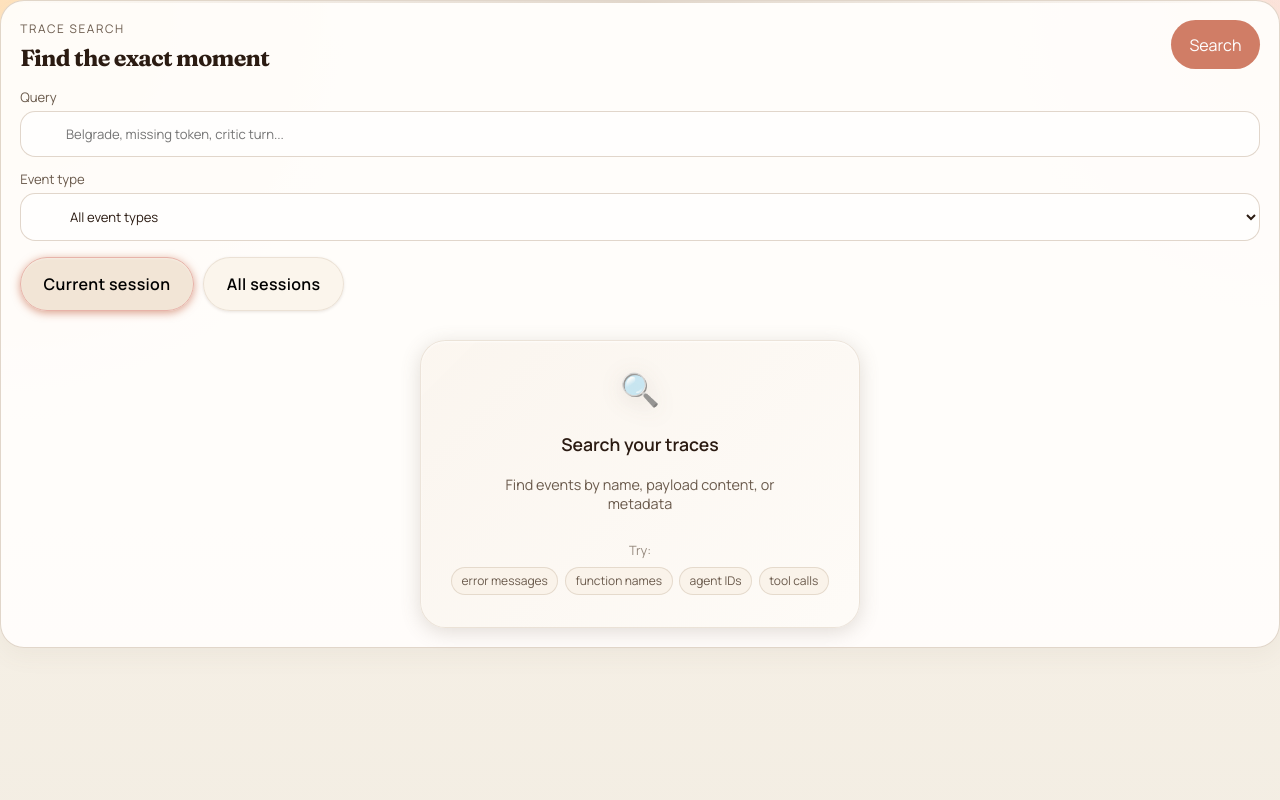
Test case: SearchPanel › shows "no results" message when search returns empty
The image size is (1280, 800).
Type in search input
Type "nonexistent" into the field with placeholder "Belgrade, missing token, critic turn..." at (640, 134), box [20,111,1260,157]
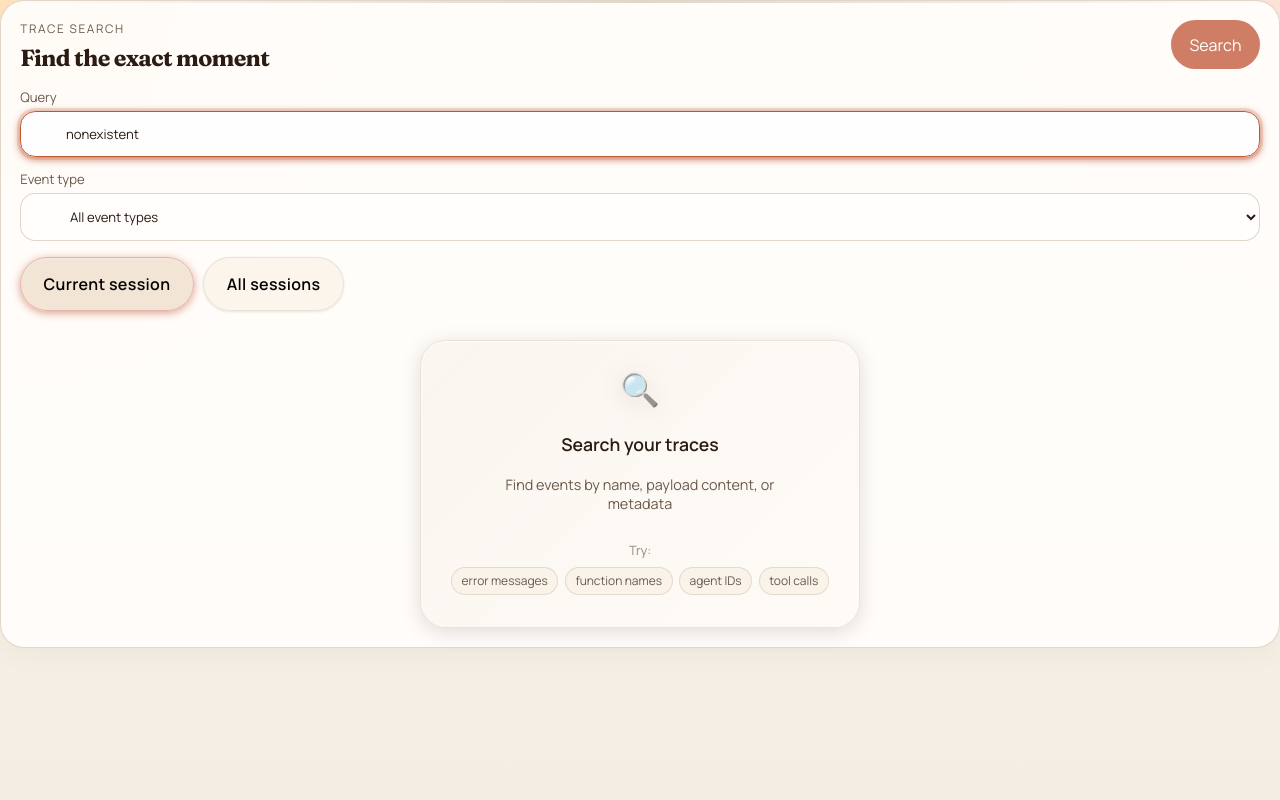
Click search button
Click the button "Search" at (1215, 45), box [1171,20,1260,69]
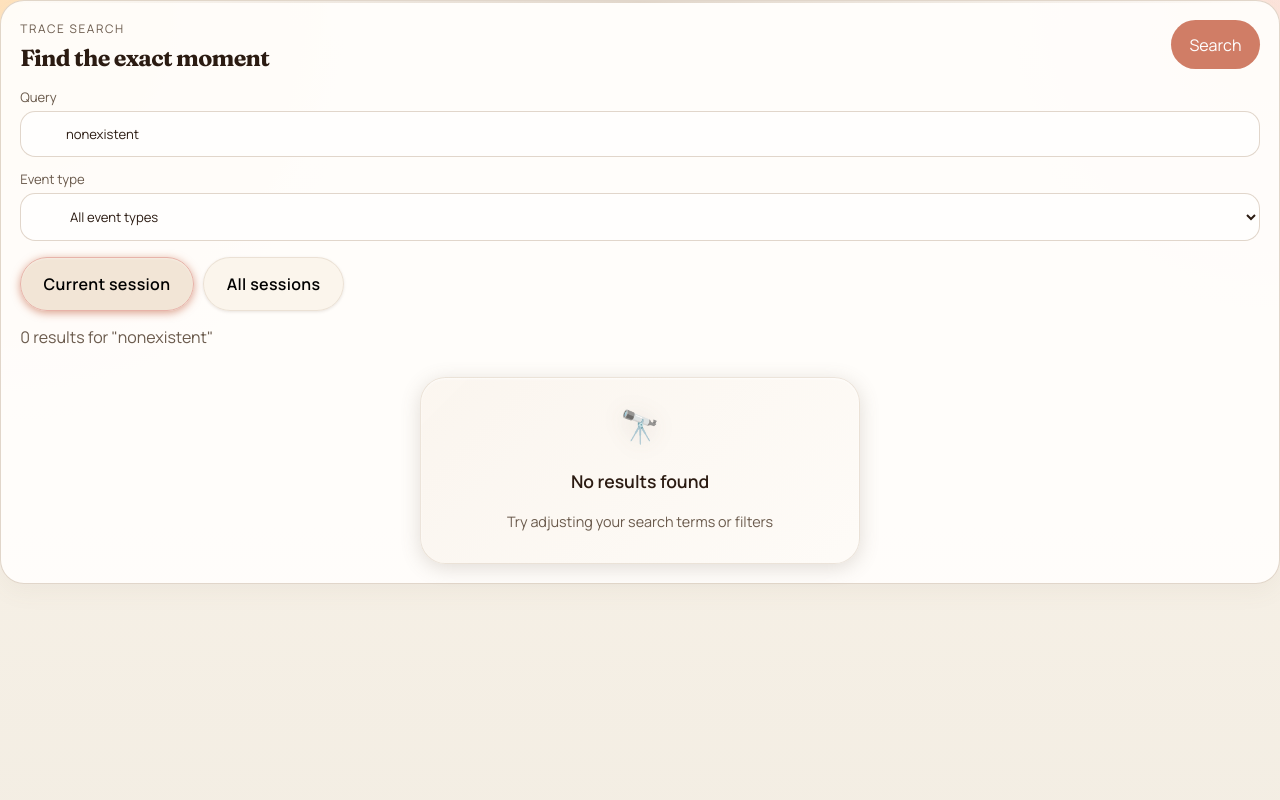
Check: the heading "No results found" is shown, box [571,469,709,493]
Check: the text "Try adjusting your search terms or filters" is shown, box [507,512,773,531]
